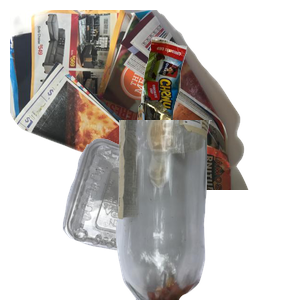glass: (113, 120, 300, 300)
paper: (10, 10, 250, 190)
plastic: (60, 136, 237, 300)
trash: (130, 34, 300, 203)
